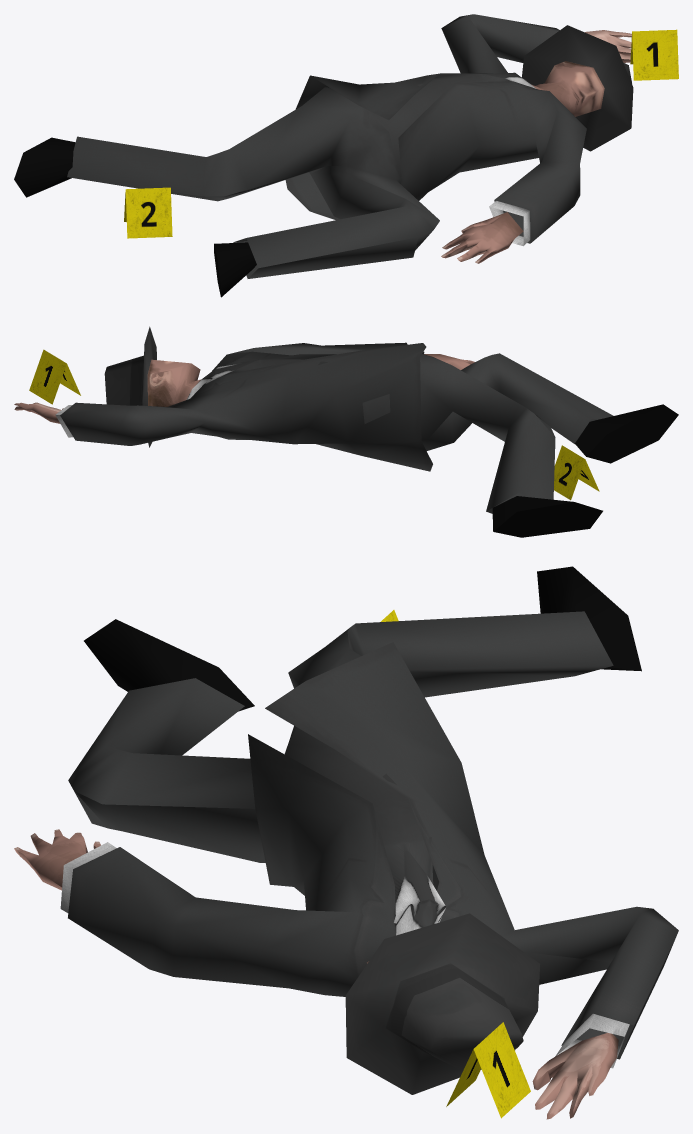
Rendered from victimcharacter1.fbx.
3 views of the same model, one above another, from view 1: azimuth 30°, elevation 25°; view 2: azimuth 150°, elevation 25°; view 3: azimuth 270°, elevation 25° (orthographic). The views are drawn at different scales.
Parts seen in each view (by area): view 1: Character003, Box001, Box002; view 2: Character003, Box001, Box002; view 3: Character003, Box001.
Boxes of the visible parts, x1=… form: Character003: x1=14, y1=14, x2=633, y2=297; Box001: x1=630, y1=29, x2=678, y2=80; Box002: x1=124, y1=187, x2=172, y2=238; Character003: x1=14, y1=326, x2=678, y2=537; Box001: x1=29, y1=349, x2=80, y2=404; Box002: x1=554, y1=445, x2=599, y2=500; Character003: x1=14, y1=566, x2=678, y2=1119; Box001: x1=446, y1=1022, x2=530, y2=1118.
Bounding box in the file's own units: 1.89 × 0.4192 × 1.08.
2 materials, 2 textured.
